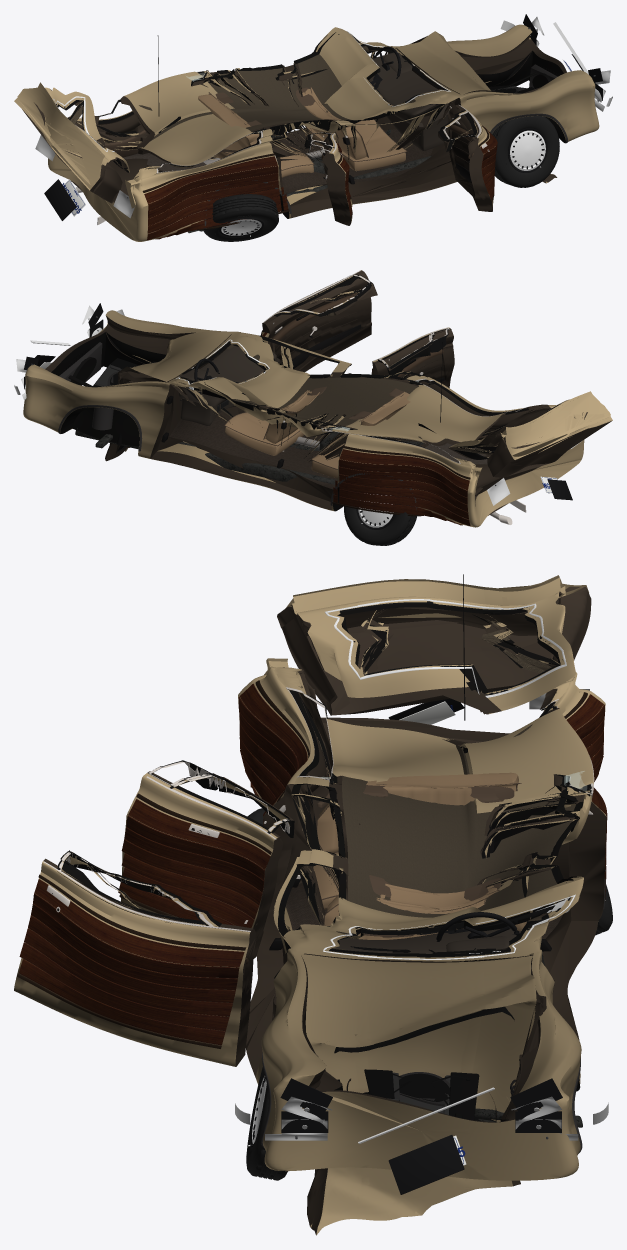
The model's file is wagon82_roll_d3.glb.
3 views of the same model, one above another, from view 1: azimuth 30°, elevation 25°; view 2: azimuth 150°, elevation 25°; view 3: azimuth 270°, elevation 25° (orthographic). The views are drawn at different scales.
Parts seen in each view (by area): view 1: Body, Interior, Trim, Tailgate, Wheel_FR_mesh, Ends, Hood, Door_FR, Wheel_RR_mesh, Door_RR, Trim_FR, Underbody (+3 smaller); view 2: Body, Trim, Interior, Tailgate, Door_FR, Hood, Door_RR, Underbody, Wheel_RL_mesh, Engine, Ends, Trim_FR (+3 smaller); view 3: Body, Hood, Tailgate, Trim_FR, Trim_RR, Door_FR, Interior, Ends, Trim, Door_RR, Engine, Glass (+2 smaller).
Part boxes in pixels (x1,y1,x2,y2): Body: (48, 24, 599, 241); Interior: (105, 52, 450, 199); Trim: (81, 35, 567, 240); Tailgate: (14, 82, 129, 203); Wheel_FR_mesh: (492, 116, 559, 187); Ends: (35, 14, 612, 220); Hood: (396, 31, 557, 183); Door_FR: (438, 105, 495, 211); Wheel_RR_mesh: (203, 194, 278, 241); Door_RR: (304, 132, 352, 225); Trim_FR: (443, 105, 497, 202); Underbody: (75, 129, 432, 233); Body: (23, 310, 584, 527); Trim: (58, 341, 528, 526); Interior: (178, 346, 499, 478); Tailgate: (448, 391, 612, 477); Door_FR: (260, 270, 377, 372); Hood: (105, 332, 231, 461); Door_RR: (371, 327, 454, 387); Underbody: (75, 428, 512, 524); Wheel_RL_mesh: (344, 477, 416, 545); Engine: (59, 342, 156, 430); Ends: (14, 303, 581, 505); Trim_FR: (262, 270, 370, 368); Body: (238, 658, 606, 1180); Hood: (301, 954, 546, 1235); Tailgate: (277, 575, 591, 715); Trim_FR: (17, 852, 250, 1048); Trim_RR: (118, 761, 289, 927); Door_FR: (14, 850, 257, 1066); Interior: (311, 767, 526, 953); Ends: (235, 689, 608, 1194); Trim: (238, 574, 607, 1153); Door_RR: (121, 771, 294, 958); Engine: (337, 1069, 479, 1120); Glass: (287, 689, 591, 960).
Bounding box in the file's own units: 5.32 × 1.88 × 2.87.
30 materials, 6 textured.
